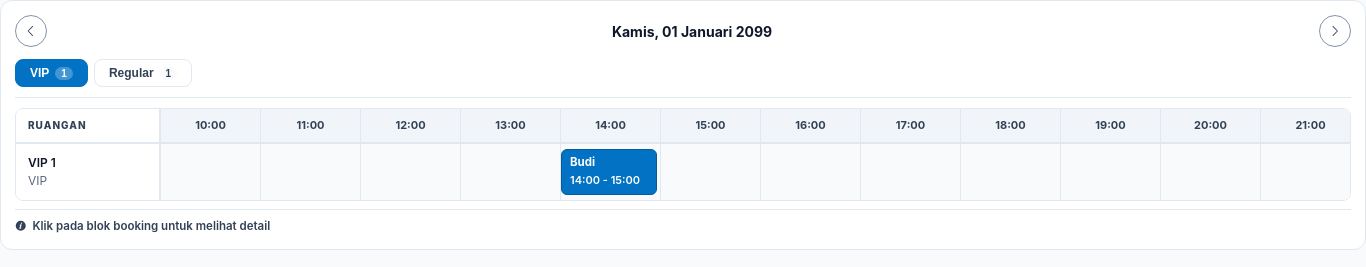
Test case: BookingGrid › shows a per-room-type event only in a matching tab
This screenshot has width=1366, height=267.
Click the button with class "room-type-tab" showing "Regular 1": x=143, y=73 [94,59,192,87]
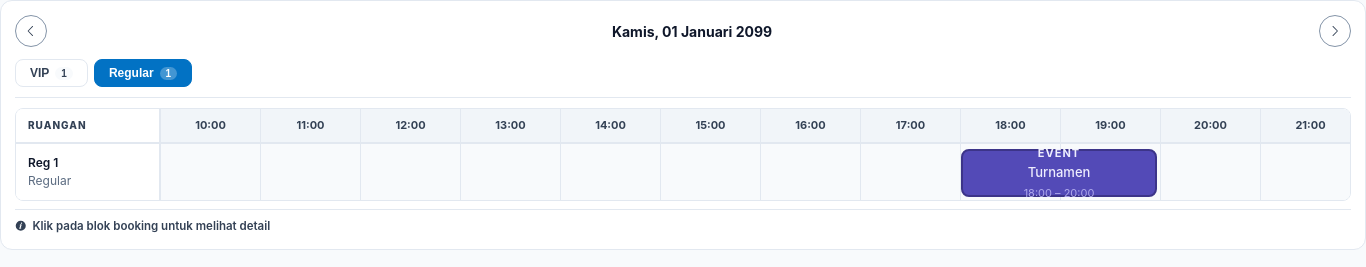
Now the element with class "event-merged-block" is shown, box [961,149,1157,197]
